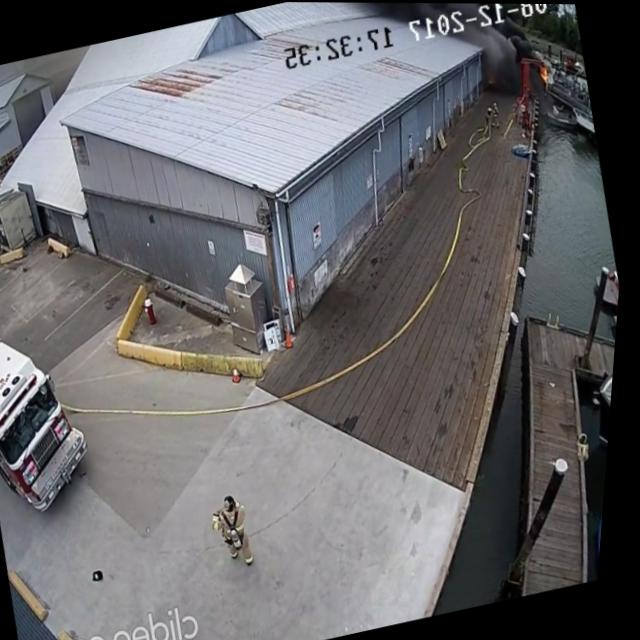fire: (528, 59, 558, 94)
